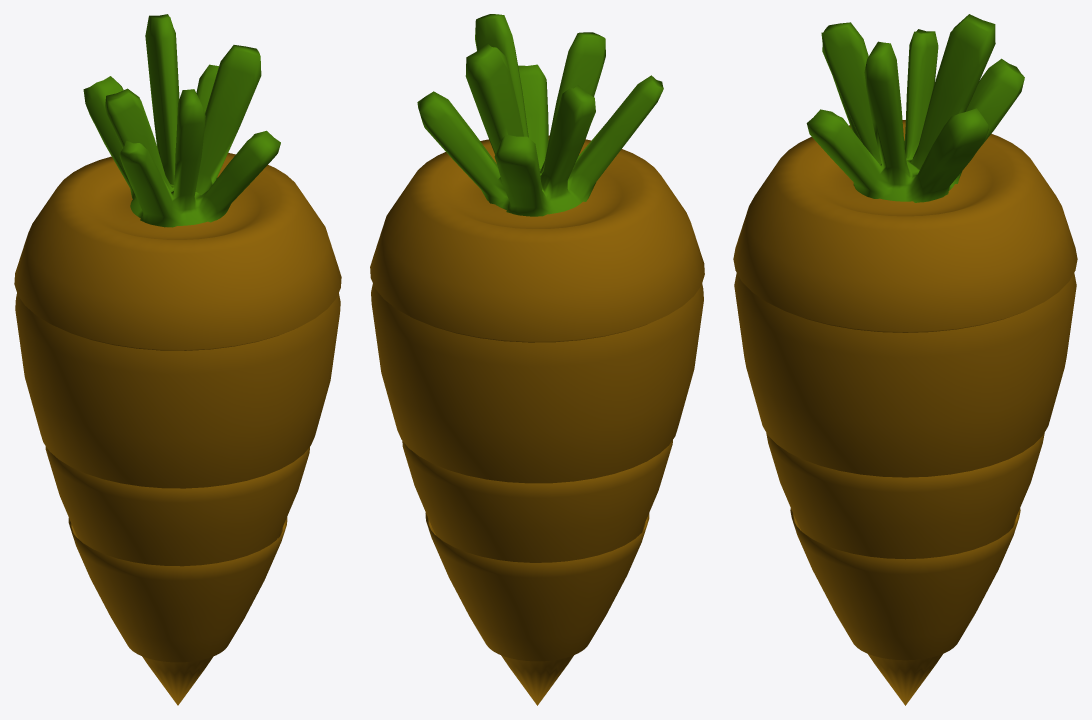
The model's file is Carrot.fbx.
The picture shows the model from 3 angles, left to right: view 1: azimuth 30°, elevation 25°; view 2: azimuth 150°, elevation 25°; view 3: azimuth 270°, elevation 25°; orthographic projection. The views are drawn at different scales.
Parts seen in each view (by area): view 1: GEO_Carrot; view 2: GEO_Carrot; view 3: GEO_Carrot.
Part boxes in pixels (x1,y1,x2,y2): GEO_Carrot: (14,14,341,705); GEO_Carrot: (370,14,704,705); GEO_Carrot: (733,14,1077,705).
Size of the model in its own units: 73.67 by 165 by 73.67.
